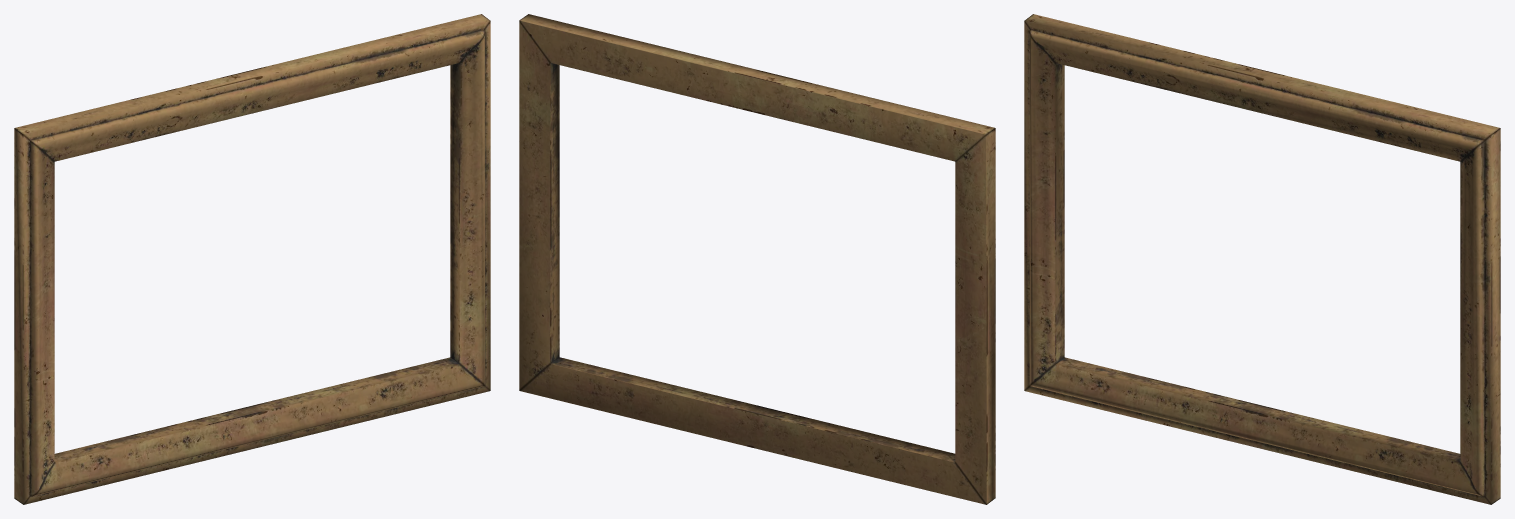
File: third-painting-frame.glb
3 renders of one model, left to right at view 1: azimuth 30°, elevation 25°; view 2: azimuth 150°, elevation 25°; view 3: azimuth 330°, elevation 25°, orthographic.
Parts seen in each view (by area): view 1: Witch_01_Linum_low; view 2: Witch_01_Linum_low; view 3: Witch_01_Linum_low.
Part boxes in pixels (box(x1,y1,x2,y2)): Witch_01_Linum_low: box(14, 14, 490, 504); Witch_01_Linum_low: box(519, 14, 995, 504); Witch_01_Linum_low: box(1024, 14, 1500, 504).
Bounding box in the file's own units: 0.8245 × 0.6245 × 0.0381.
1 material, 1 textured.
